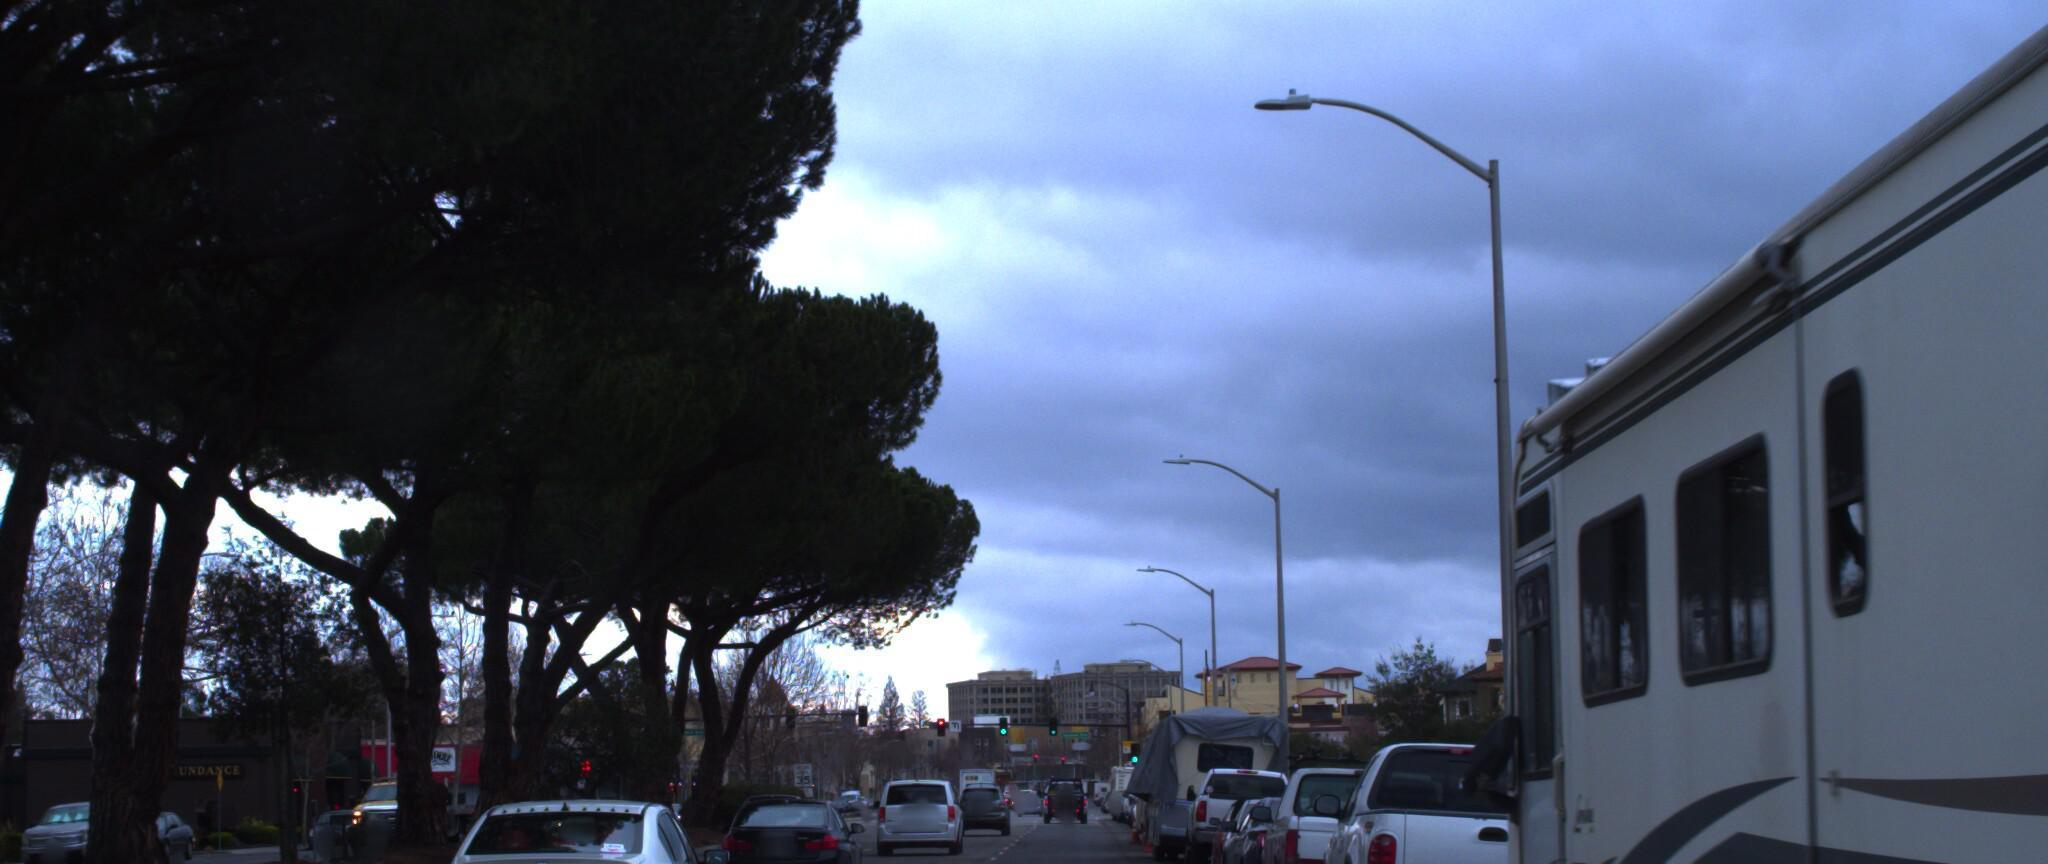car: (1294, 740, 1622, 864), (1243, 750, 1484, 864), (404, 788, 731, 864), (1213, 788, 1382, 864), (716, 782, 869, 864), (1179, 765, 1301, 864), (14, 794, 152, 864), (874, 771, 957, 841)
other_vehicle: (1458, 0, 2048, 864), (1139, 713, 1285, 859)
